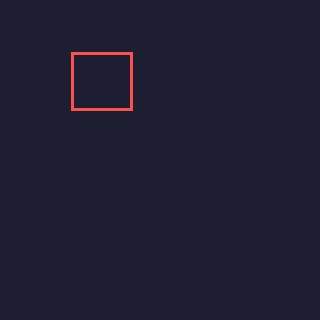bird: (71, 52, 132, 110)
